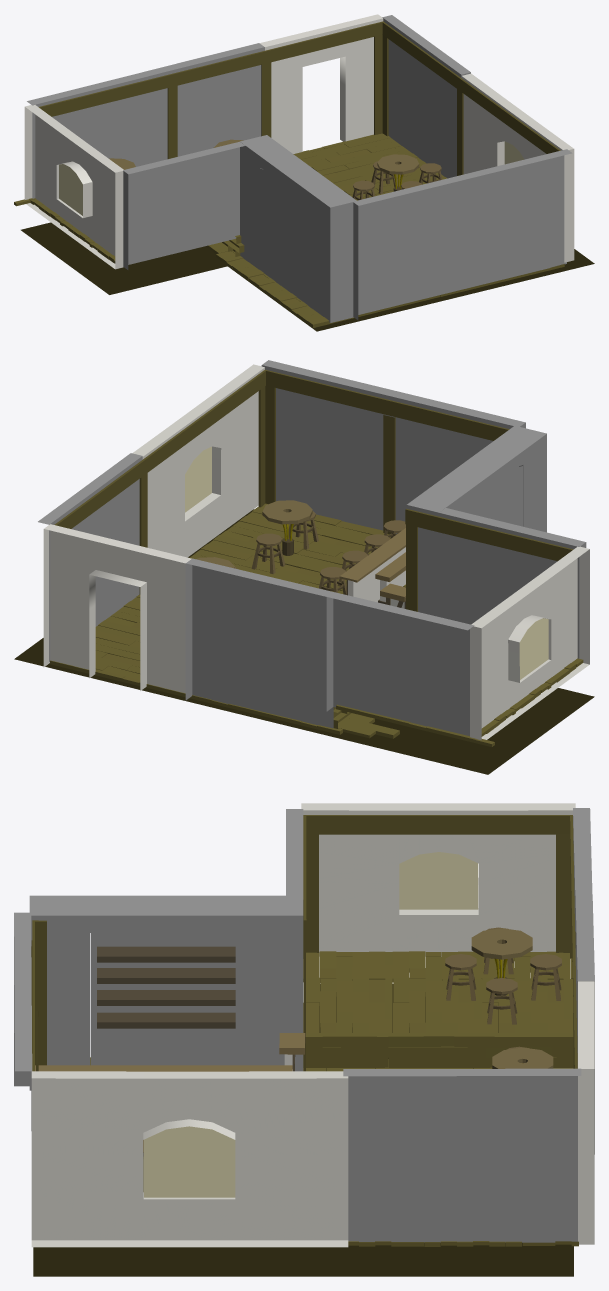
The model's file is bar2.0.fbx.
3 renders of one model, top to bottom at view 1: azimuth 30°, elevation 25°; view 2: azimuth 150°, elevation 25°; view 3: azimuth 270°, elevation 25°, orthographic. The views are drawn at different scales.
Parts seen in each view (by area): view 1: pCube75, pCube67, pCube510, pCube18, pCube82, pCube70, pCube493, pCube73, pCube74, pCube494, pCube83, pCube69 (+2 smaller); view 2: pCube75, pCube70, pCube69, pCube73, pCube510, pCube493, pCube82, pCube83, pCube494, pCube67, pCube18, pCube74 (+6 smaller); view 3: pCube83, pCube74, pCube82, pCube493, pCube18, pCube494, pCube19, pCube510, pCube63, pCube73, pCube75, polySurface4 (+8 smaller).
Boxes of the visible parts, bbox=[...] form: pCube75: bbox=[353, 149, 572, 319]; pCube67: bbox=[123, 141, 245, 269]; pCube510: bbox=[38, 21, 560, 175]; pCube18: bbox=[240, 135, 356, 322]; pCube82: bbox=[24, 105, 123, 269]; pCube70: bbox=[143, 43, 264, 163]; pCube493: bbox=[14, 133, 564, 327]; pCube73: bbox=[259, 14, 383, 153]; pCube74: bbox=[382, 15, 470, 178]; pCube494: bbox=[21, 222, 594, 331]; pCube83: bbox=[461, 73, 574, 262]; pCube69: bbox=[27, 72, 148, 198]; pCube75: bbox=[261, 360, 525, 533]; pCube70: bbox=[185, 558, 333, 728]; pCube69: bbox=[326, 592, 474, 735]; pCube73: bbox=[43, 524, 191, 693]; pCube510: bbox=[54, 369, 573, 611]; pCube493: bbox=[49, 503, 583, 746]; pCube82: bbox=[470, 546, 589, 740]; pCube83: bbox=[132, 364, 264, 557]; pCube494: bbox=[14, 509, 594, 774]; pCube67: bbox=[439, 508, 586, 658]; pCube18: bbox=[406, 426, 546, 616]; pCube74: bbox=[38, 453, 142, 661]; pCube83: bbox=[31, 1071, 348, 1247]; pCube74: bbox=[343, 1068, 581, 1242]; pCube82: bbox=[301, 803, 575, 956]; pCube493: bbox=[90, 951, 578, 1246]; pCube18: bbox=[29, 895, 303, 1090]; pCube494: bbox=[33, 984, 573, 1276]; pCube19: bbox=[90, 923, 242, 1065]; pCube510: bbox=[31, 815, 577, 1071]; pCube63: bbox=[97, 946, 235, 1028]; pCube73: bbox=[578, 981, 594, 1244]; pCube75: bbox=[14, 912, 32, 1130]; polySurface4: bbox=[35, 1033, 305, 1071].
Bounding box in the file's own units: 27.44 × 7.97 × 22.73.
